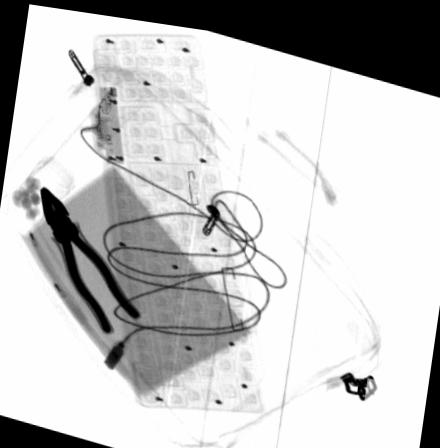Pliers: (38, 184, 142, 332)
